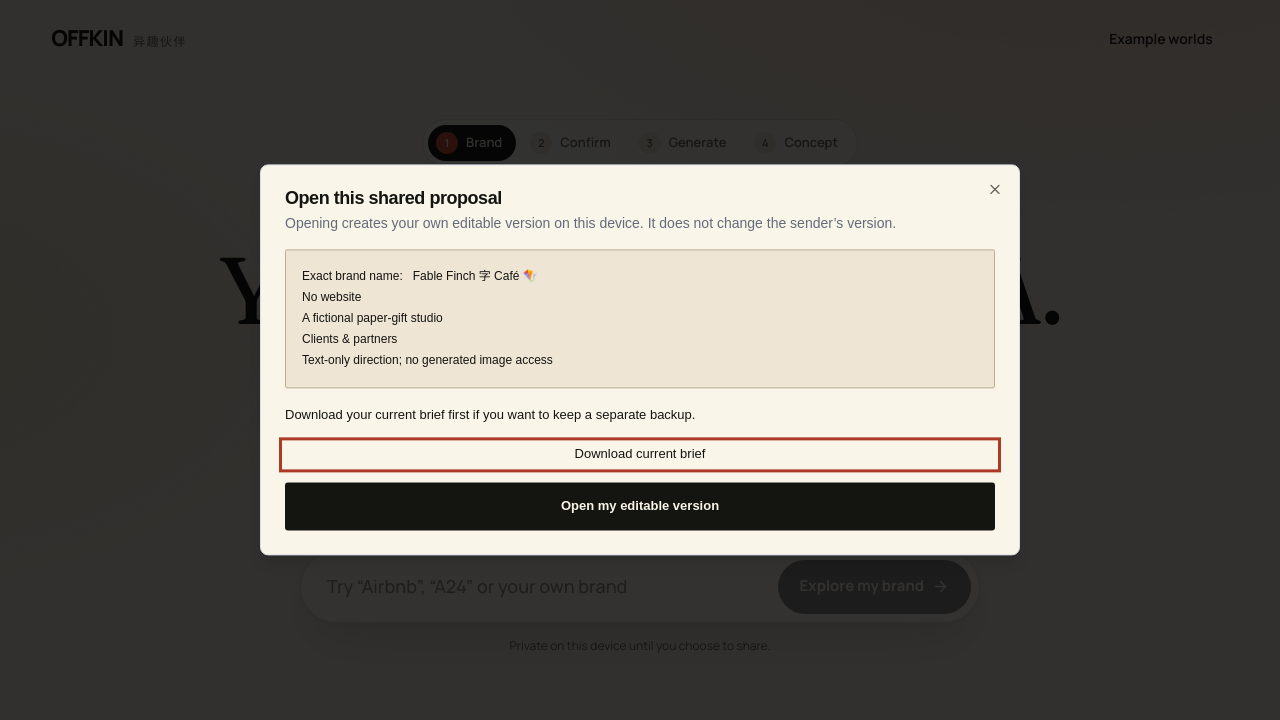
Test: Complete proposal journey › shows the reviewed exact identity in shares and preserves it in an independent text branch
The width and height of the screenshot is (1280, 720).
Check: the text "Exact brand name: Fable Finch 字 Café 🪁" is shown, box [302,269,544,283]
Step 1. Click the button "Open my editable version" → (640, 506), box [285,482,995,531]
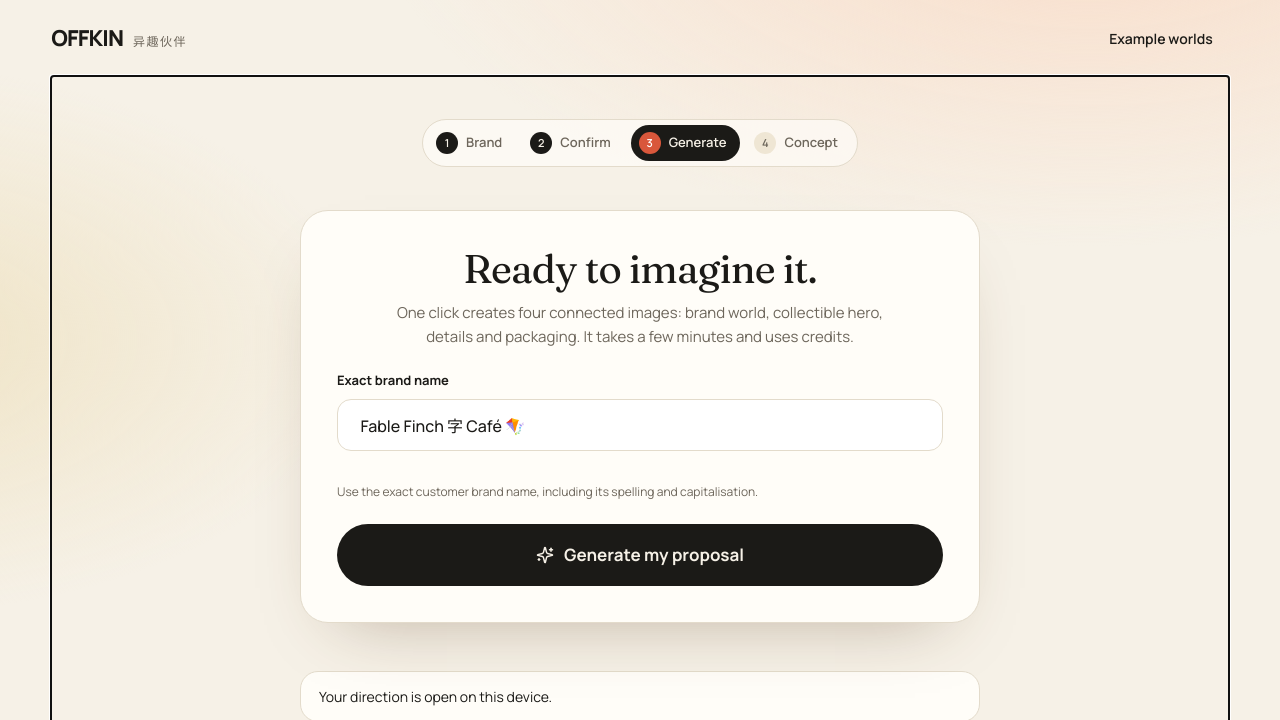
Check: the dialog is gone
Check: the field labelled "Exact brand name" holds "  Fable Finch 字 Café 🪁  ", box [337,399,943,451]
